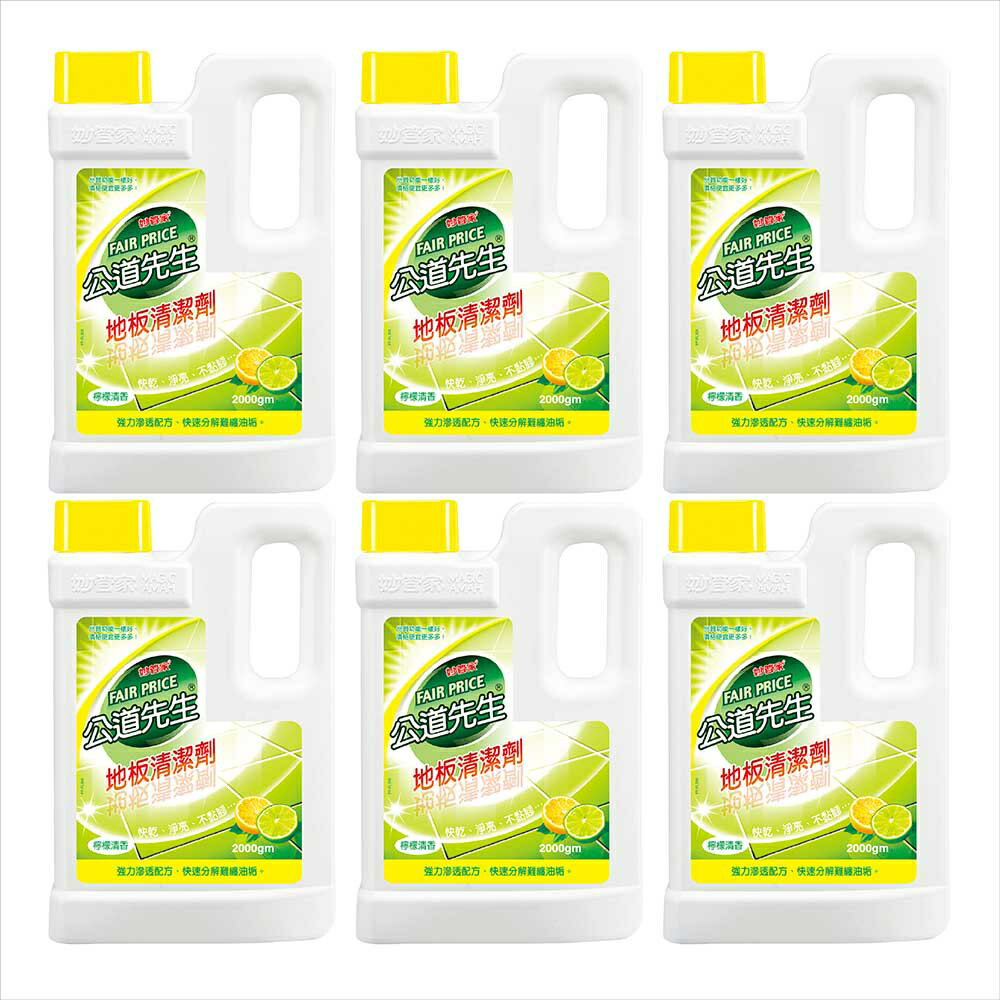cleaner: (660, 496, 977, 950), (36, 38, 338, 506), (32, 500, 334, 952), (346, 496, 644, 954), (352, 43, 649, 500), (662, 42, 958, 496)
